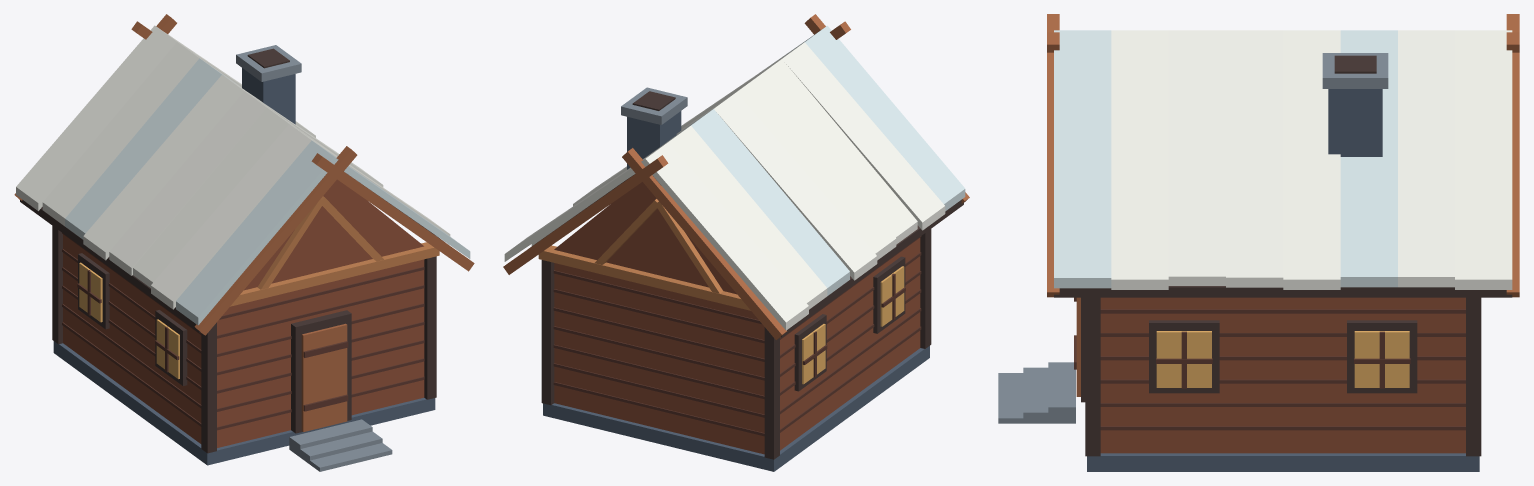
File: HearthCabin.fbx
The picture shows the model from 3 angles, left to right: view 1: azimuth 30°, elevation 25°; view 2: azimuth 150°, elevation 25°; view 3: azimuth 270°, elevation 25°; orthographic projection. The views are drawn at different scales.
Parts seen in each view (by area): view 1: HearthCabin; view 2: HearthCabin; view 3: HearthCabin.
Boxes of the visible parts, box(x1,y1,x2,y2) form: HearthCabin: box(14, 14, 474, 471); HearthCabin: box(503, 14, 969, 471); HearthCabin: box(998, 14, 1519, 471).
Bounding box in the file's own units: 5.05 × 5.15 × 6.44.
Materials: 1 (1 with a texture image).
